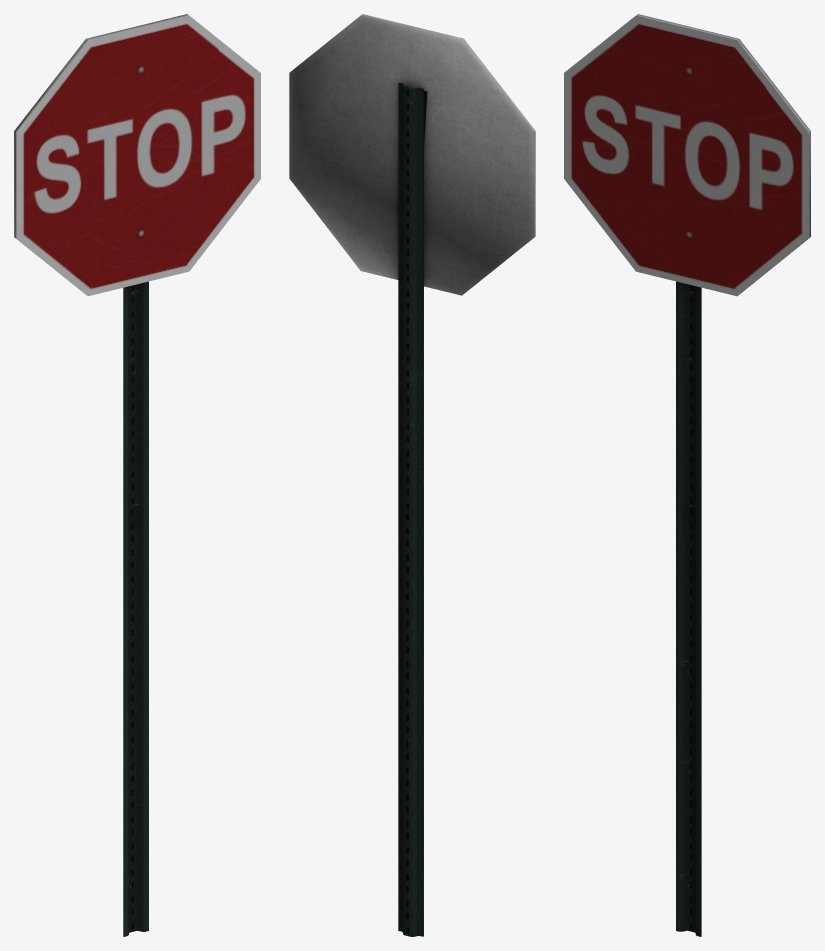
Rendered from SignStop.fbx.
3 renders of one model, left to right at view 1: azimuth 30°, elevation 25°; view 2: azimuth 150°, elevation 25°; view 3: azimuth 330°, elevation 25°, orthographic.
Visible parts, largest first — view 1: signstop; view 2: signstop; view 3: signstop.
Boxes of the visible parts, x1,y1,x2,y2 form: signstop: (14, 14, 260, 936); signstop: (289, 14, 535, 936); signstop: (564, 14, 810, 936).
Size of the model in its own units: 0.739 by 2.62 by 0.031.
